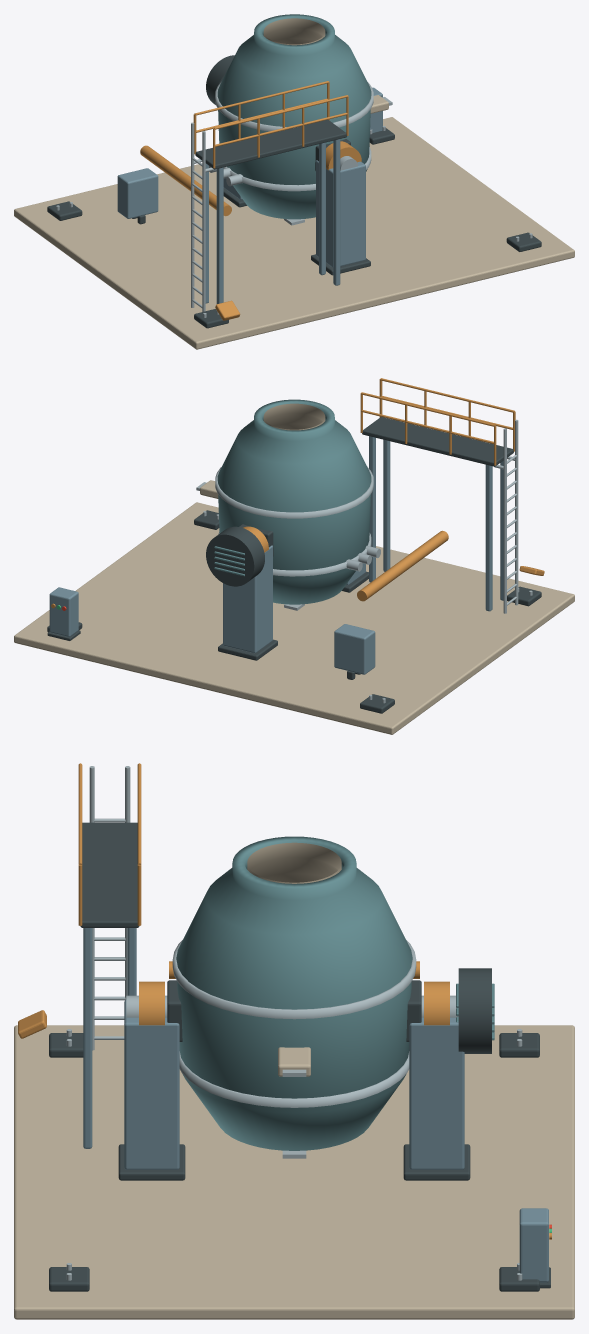
Rendered from STS-HR-03-lod0.glb.
3 views of the same model, one above another, from view 1: azimuth 30°, elevation 25°; view 2: azimuth 150°, elevation 25°; view 3: azimuth 270°, elevation 25° (orthographic). The views are drawn at different scales.
Parts seen in each view (by area): view 1: foundation, refractory_vessel, far_pedestal, aod_service_deck, gas_valve_bank, refractory_lining, aod_service_support_1_1, aod_service_support_-1_1, argon_manifold, aod_service_support_1_-1, vessel_hoop_0.65, aod_service_ladder_rail_1 (+7 smaller); view 2: foundation, refractory_vessel, near_pedestal, aod_service_deck, tilt_gearbox, gas_valve_bank, refractory_lining, argon_manifold, control_cabinet, vessel_hoop_0.65, aod_service_support_-1_-1, aod_service_support_1_1 (+7 smaller); view 3: foundation, refractory_vessel, far_pedestal, near_pedestal, aod_service_deck, refractory_lining, tilt_gearbox, vessel_hoop_0.65, vessel_hoop_-0.7, aod_service_support_1_1, control_cabinet, far_bearing (+9 smaller).
Part boxes in pixels (<box>): foundation: <box>14,117,574,349</box>; refractory_vessel: <box>217,14,371,219</box>; far_pedestal: <box>316,160,365,267</box>; aod_service_deck: <box>195,119,346,169</box>; gas_valve_bank: <box>117,168,158,218</box>; refractory_lining: <box>263,18,325,45</box>; aod_service_support_1_1: <box>333,139,340,285</box>; aod_service_support_-1_1: <box>216,167,223,303</box>; argon_manifold: <box>140,145,231,216</box>; aod_service_support_1_-1: <box>319,142,325,275</box>; vessel_hoop_0.65: <box>215,81,373,131</box>; aod_service_ladder_rail_1: <box>202,131,205,311</box>; foundation: <box>14,502,574,734</box>; refractory_vessel: <box>217,399,371,604</box>; near_pedestal: <box>223,545,272,653</box>; aod_service_deck: <box>362,417,513,466</box>; tilt_gearbox: <box>206,526,264,586</box>; gas_valve_bank: <box>334,624,375,674</box>; refractory_lining: <box>263,403,325,430</box>; argon_manifold: <box>357,530,448,601</box>; control_cabinet: <box>49,587,78,636</box>; vessel_hoop_0.65: <box>215,466,373,518</box>; aod_service_support_-1_-1: <box>485,464,492,611</box>; aod_service_support_1_1: <box>383,439,390,571</box>; foundation: <box>14,1025,574,1319</box>; refractory_vessel: <box>176,836,412,1150</box>; far_pedestal: <box>124,1000,179,1169</box>; near_pedestal: <box>409,1017,464,1169</box>; aod_service_deck: <box>80,822,139,927</box>; refractory_lining: <box>247,842,341,883</box>; tilt_gearbox: <box>458,968,491,1053</box>; vessel_hoop_0.65: <box>172,940,416,1019</box>; vessel_hoop_-0.7: <box>179,1051,409,1107</box>; aod_service_support_1_1: <box>83,928,92,1148</box>; control_cabinet: <box>519,1208,548,1282</box>; far_bearing: <box>139,981,164,1025</box>.
Bounding box in the file's own units: 9.1 × 4.75 × 7.6.
